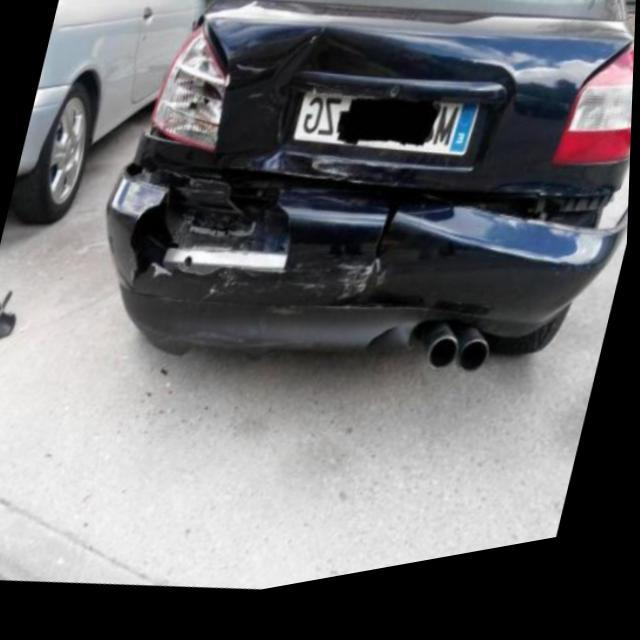dent: (203, 18, 524, 99)
dislocated part: (380, 221, 631, 331)
lamp broken: (150, 35, 237, 152)
